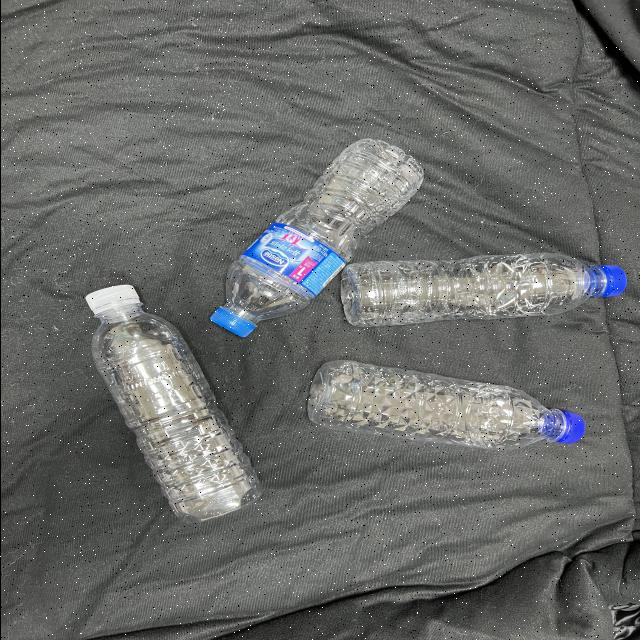plastic: (185, 121, 441, 361), (60, 278, 282, 536), (290, 341, 603, 477), (337, 245, 629, 336)
